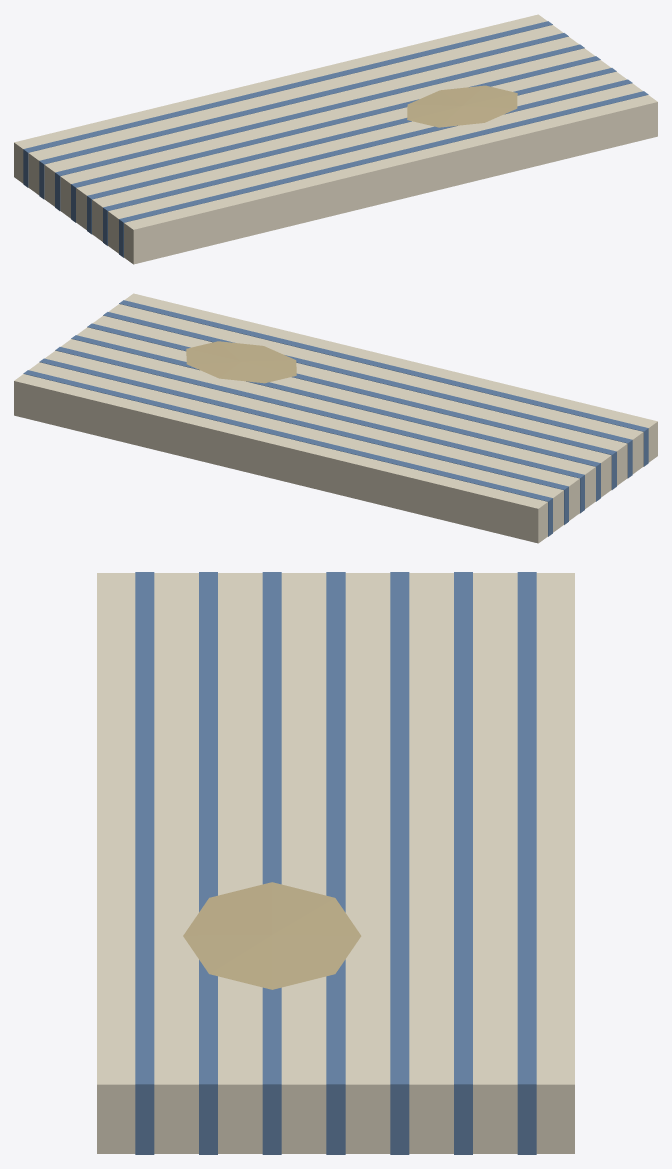
Rendered from tunnel_mattress.glb.
3 renders of one model, top to bottom at view 1: azimuth 30°, elevation 25°; view 2: azimuth 150°, elevation 25°; view 3: azimuth 270°, elevation 25°, orthographic. The views are drawn at different scales.
Visible parts, largest first — view 1: mattress_mattress, mattress_mattress_stripe, mattress_mattress_stain; view 2: mattress_mattress, mattress_mattress_stripe, mattress_mattress_stain; view 3: mattress_mattress, mattress_mattress_stripe, mattress_mattress_stain.
Part boxes in pixels (box(x1,y1,x2,y2)): mattress_mattress: box(14, 14, 657, 264); mattress_mattress_stripe: box(23, 21, 648, 257); mattress_mattress_stain: box(407, 85, 517, 127); mattress_mattress: box(14, 293, 657, 543); mattress_mattress_stripe: box(23, 300, 648, 536); mattress_mattress_stain: box(186, 341, 296, 383); mattress_mattress: box(97, 573, 574, 1153); mattress_mattress_stripe: box(135, 572, 536, 1154); mattress_mattress_stain: box(183, 882, 361, 989).
Size of the model in its own units: 1.9 by 0.124 by 0.75.
